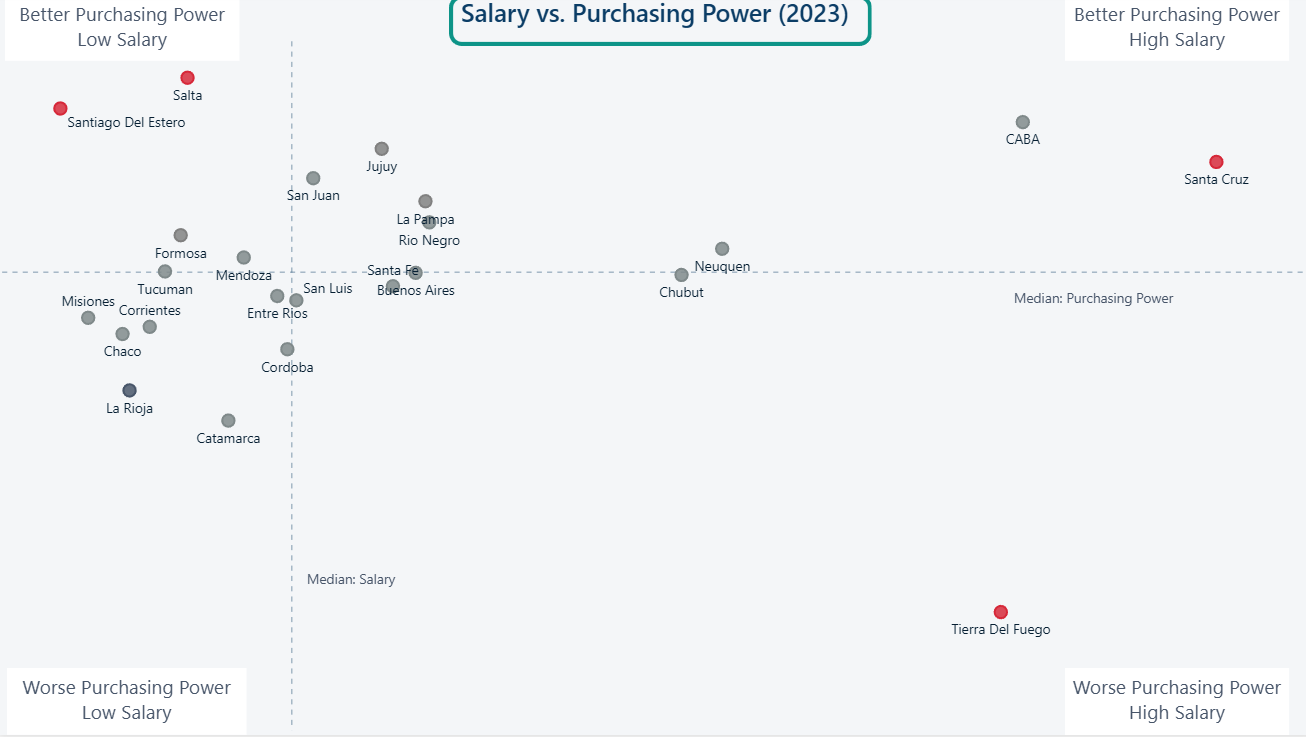

What the dashboard file says about the page in this screenshot:
{"tool":"powerbi","page":{"name":"Salary vs. Purchasing Power","canvas":[1280,720],"ordinal":4},"visuals":[{"type":"scatterChart","title":"Salary vs. Purchasing Power (2023)","fields":{"X":["_Medidas.Salario Final"],"Y":["_Medidas.Poder Adquisitivo Provincia %"],"Series":["dim_provincia.provincia"]},"box":[0,0,1280,720.4],"z":0},{"type":"textbox","box":[8,0,227.8,64],"z":1000},{"type":"textbox","box":[10,654.5,232.8,64.9],"z":2000},{"type":"textbox","box":[1039.2,0,217.8,64],"z":3000},{"type":"textbox","box":[1039.2,654.5,217.8,65.9],"z":4000},{"type":"shape","box":[439.6,0,411.4,49.6],"z":5000},{"type":"textbox","box":[950.3,278.2,232.5,30.2],"z":6000},{"type":"textbox","box":[258.7,551.5,171.2,30.2],"z":7000}]}

Visuals, with their boxes in screenshot pixels (x1, y1, x2, y2), scaled from the page's 1280x720 canvas onto the 1306x737 screenshot:
"Salary vs. Purchasing Power (2023)" scatterChart: Rect(0, 0, 1305, 736)
textbox: Rect(8, 0, 241, 66)
textbox: Rect(10, 670, 248, 736)
textbox: Rect(1060, 0, 1283, 66)
textbox: Rect(1060, 670, 1283, 736)
shape: Rect(449, 0, 868, 51)
textbox: Rect(970, 285, 1207, 316)
textbox: Rect(264, 565, 439, 595)
